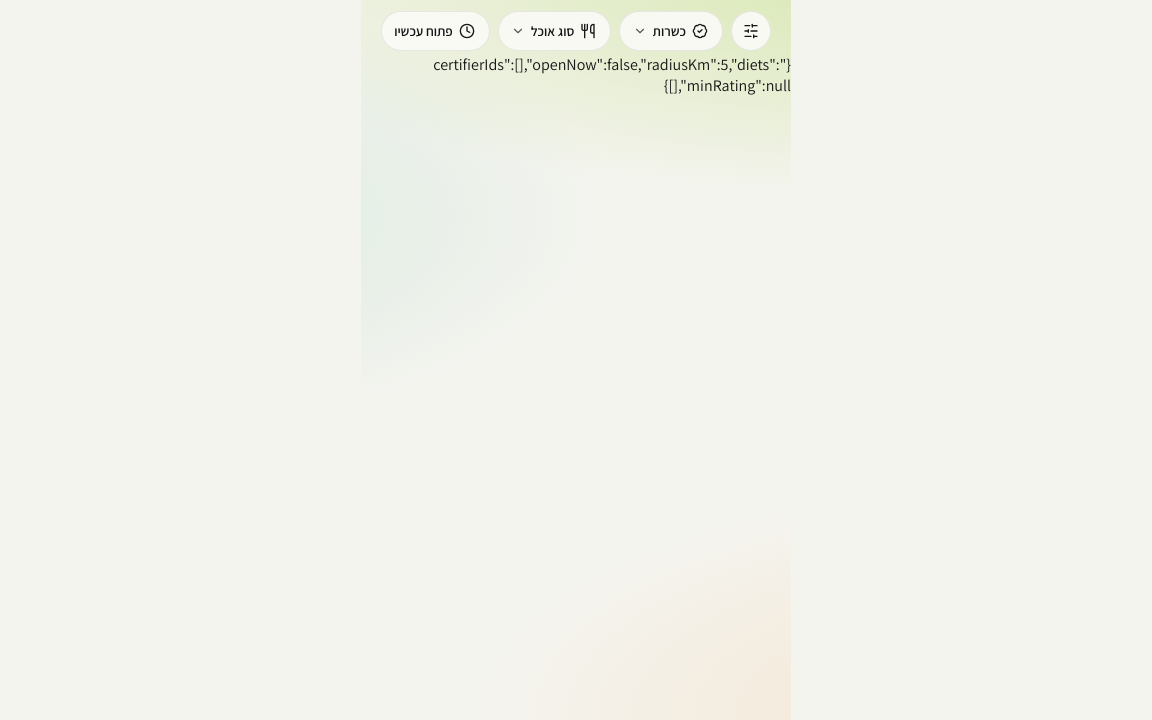
Test: filter bar › multi-selects food types, keeps the popover open, and summarises the chip
Click the button "סוג אוכל". click: click(555, 31)
box: [498,11,611,51]
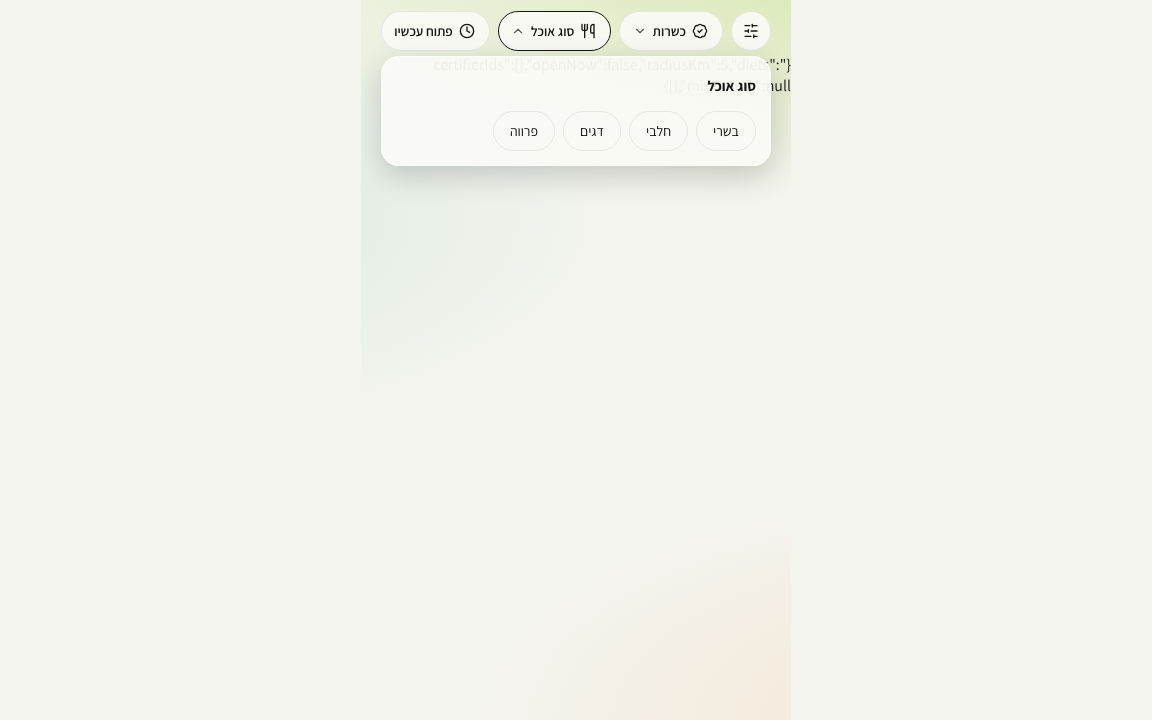
Click the button "בשרי". click: click(726, 131)
box: [696,111,756,151]
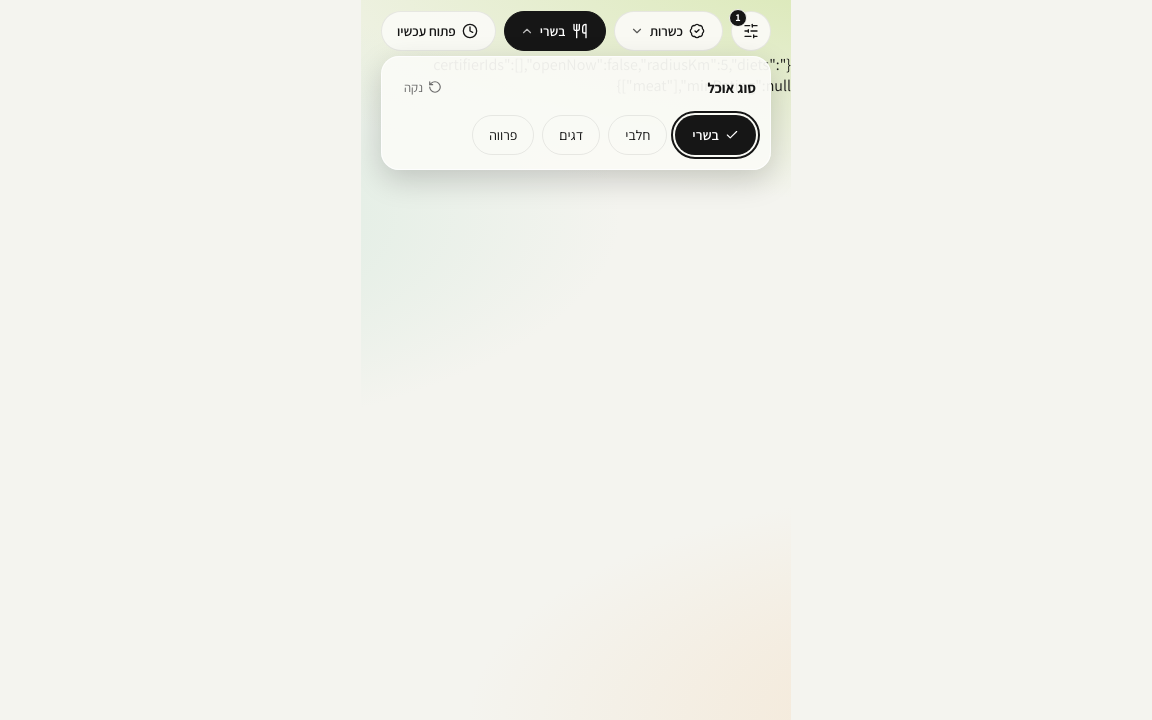
Now the 1st button "בשרי" is shown, box [504,11,606,51]
Click the button "חלבי". click: click(638, 135)
box: [608,115,667,155]
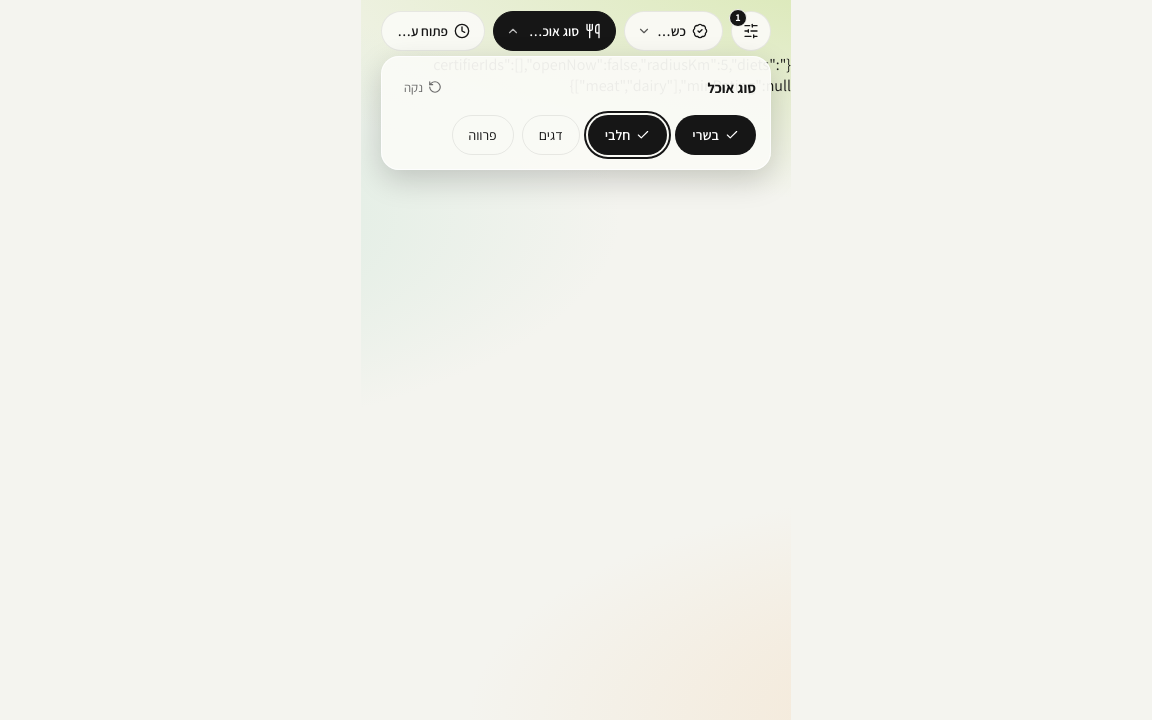
Press Escape
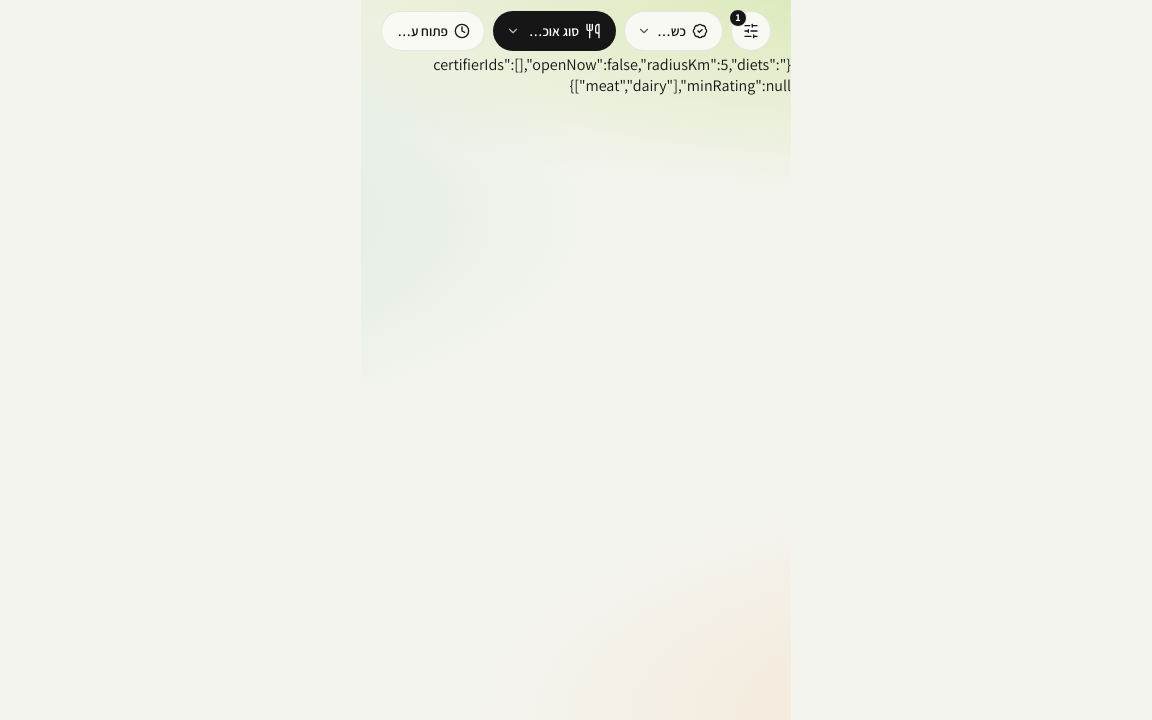
Now the dialog is gone
